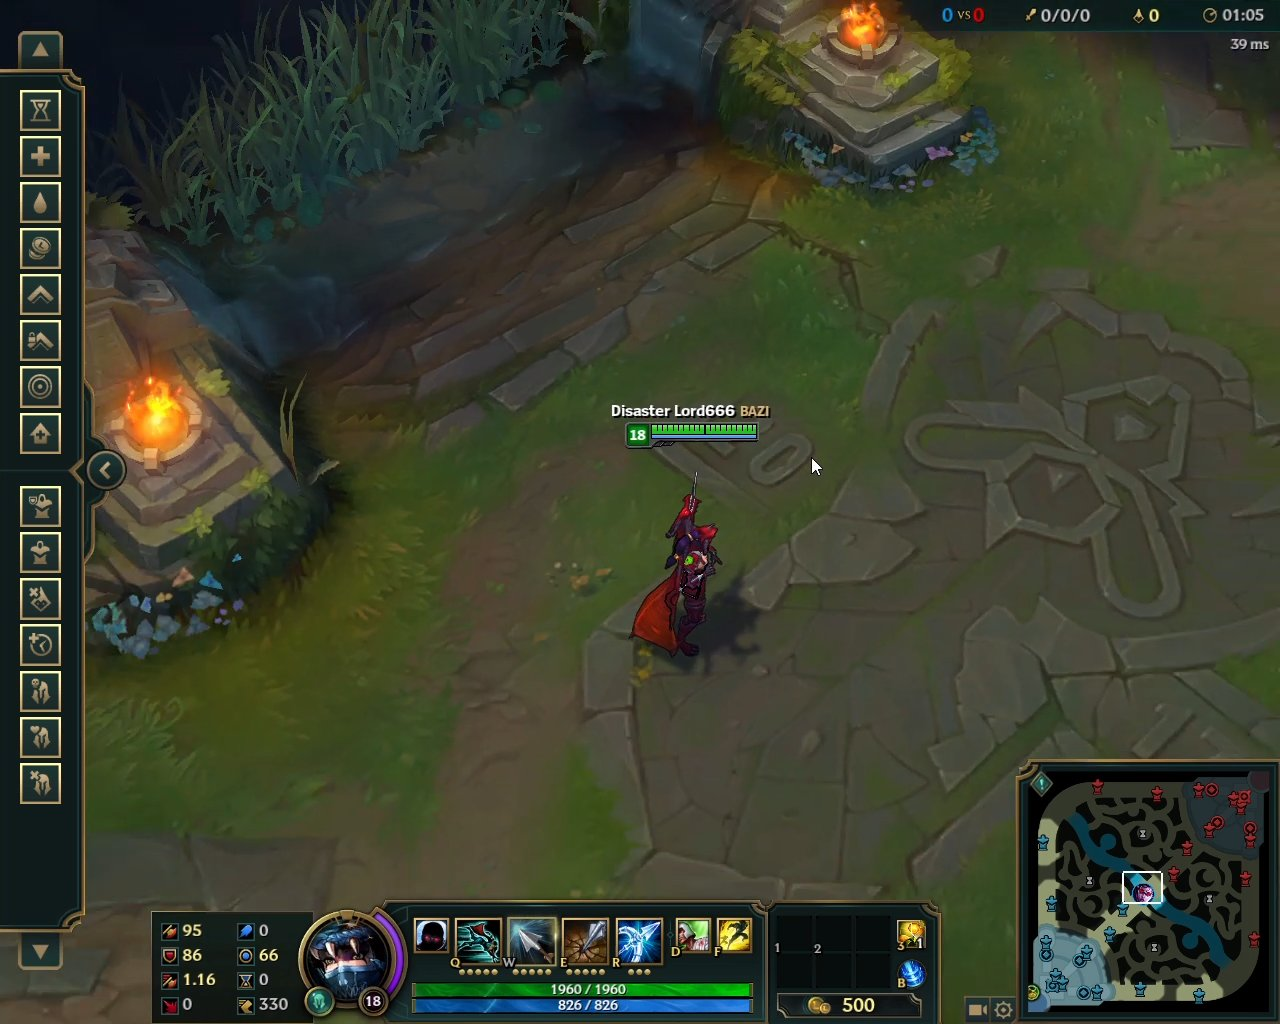Vayne: (618, 469, 729, 669)
